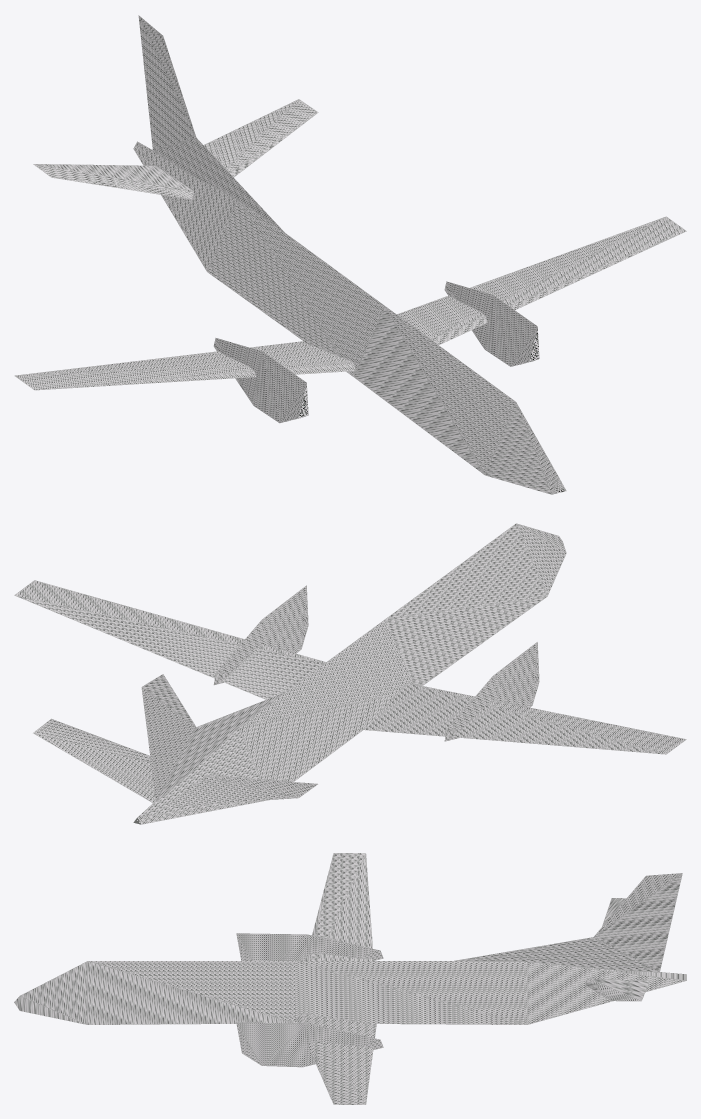
Rendered from TFS_Saab_2000_MSFS_LOD1.gltf.
3 renders of one model, top to bottom at view 1: azimuth 30°, elevation 25°; view 2: azimuth 150°, elevation 25°; view 3: azimuth 270°, elevation 25°, orthographic. The views are drawn at different scales.
Parts seen in each view (by area): view 1: node1; view 2: node1; view 3: node1.
Part boxes in pixels (<box>): node1: <box>14,15,686,494</box>; node1: <box>14,523,686,824</box>; node1: <box>14,853,686,1104</box>.
Bounding box in the file's own units: 24.08 × 6.52 × 27.2.
